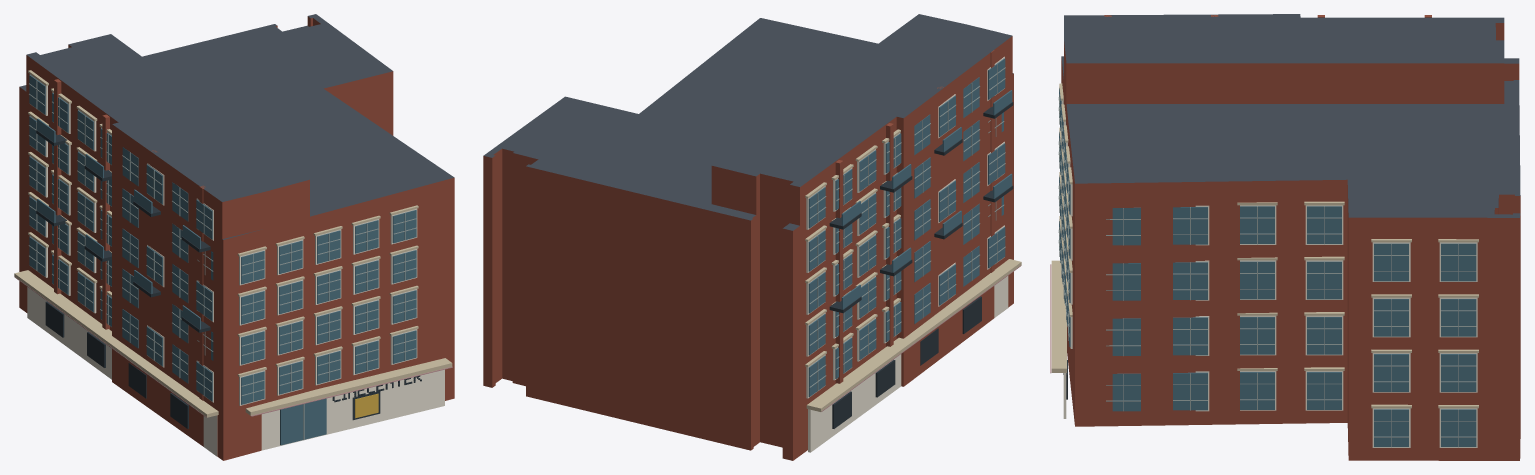
Rendered from cinecenter.glb.
3 views of the same model, side by side, from view 1: azimuth 30°, elevation 25°; view 2: azimuth 150°, elevation 25°; view 3: azimuth 270°, elevation 25° (orthographic). The views are drawn at different scales.
Visible parts, largest first — view 1: cinecenter; view 2: cinecenter; view 3: cinecenter.
Boxes of the visible parts, x1=… form: cinecenter: x1=14, y1=14, x2=454, y2=460; cinecenter: x1=483, y1=14, x2=1021, y2=460; cinecenter: x1=1050, y1=14, x2=1520, y2=460.
Bounding box in the file's own units: 26.34 × 20.55 × 30.84.
